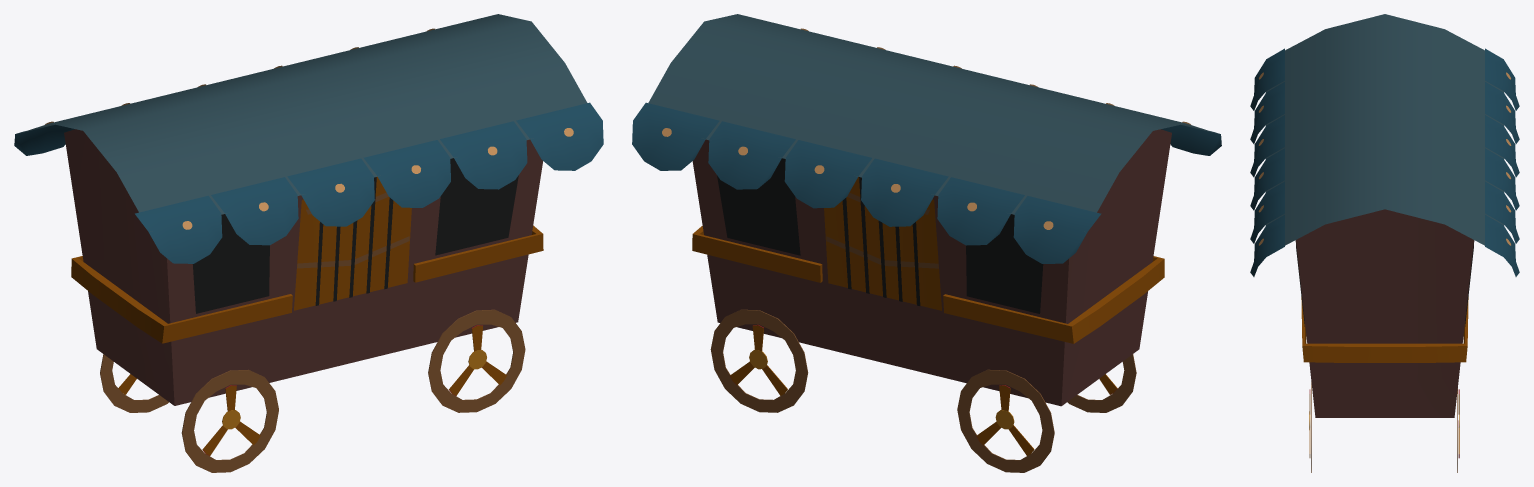
Rendered from SM_Carroza.fbx.
3 renders of one model, left to right at view 1: azimuth 30°, elevation 25°; view 2: azimuth 150°, elevation 25°; view 3: azimuth 270°, elevation 25°, orthographic. The views are drawn at different scales.
Parts seen in each view (by area): view 1: Carroza; view 2: Carroza; view 3: Carroza.
Boxes of the visible parts, x1,y1,x2,y2 form: Carroza: (14,14,603,472); Carroza: (632,14,1221,472); Carroza: (1250,14,1519,472).
Size of the model in its own units: 1.26 by 0.8883 by 0.7214.
